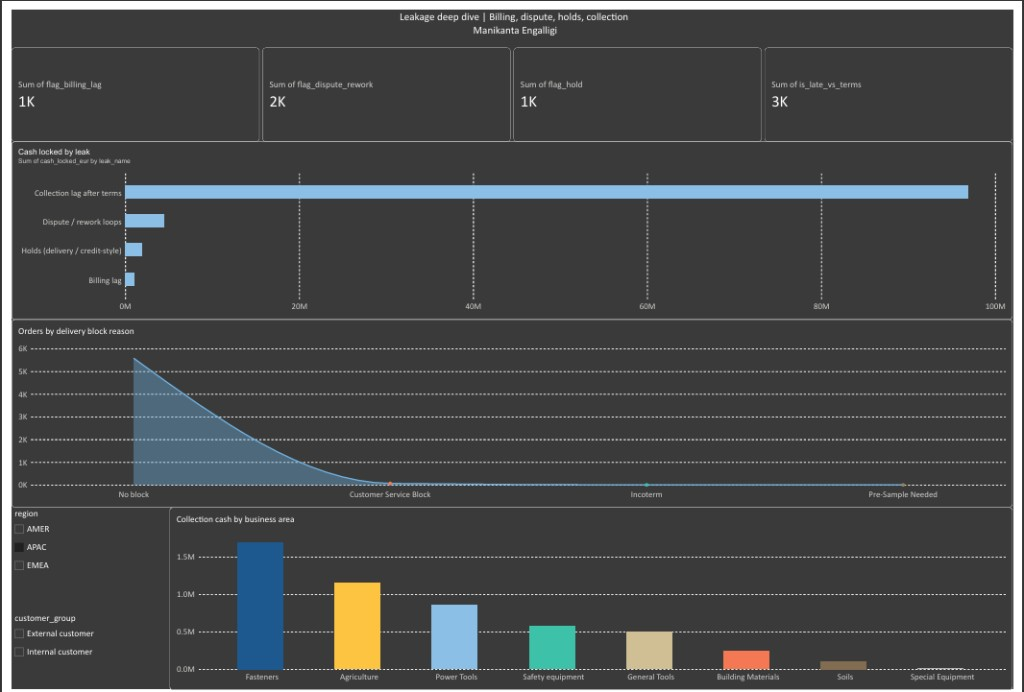

The page's visual inventory and layout, read from the dashboard file:
{"tool":"powerbi","page":{"name":"Leakage","canvas":[2500,1700],"ordinal":2},"visuals":[{"type":"textbox","box":[10,0,2490,92.5],"z":0},{"type":"slicer","fields":{"Values":["mart_order_kpi_full.region"]},"box":[0,1242.5,400,217.5],"z":1000},{"type":"slicer","fields":{"Values":["mart_order_kpi_full.customer_group"]},"box":[0,1505,395,195],"z":2000},{"type":"cardVisual","fields":{"Data":["Sum(mart_order_kpi_full.flag_billing_lag)","Sum(mart_order_kpi_full.flag_dispute_rework)","Sum(mart_order_kpi_full.flag_hold)","Sum(mart_order_kpi_full.is_late_vs_terms)"]},"box":[0,92.5,2500,235],"z":3000},{"type":"clusteredBarChart","title":"Cash locked by leak","fields":{"Category":["mart_leak_impact.leak_name"],"Y":["Sum(mart_leak_impact.cash_locked_eur)"]},"box":[0,327.5,2500,445],"z":4000},{"type":"stackedAreaChart","title":"Orders by delivery block reason","fields":{"Category":["dim_delivery_block.delivery_block"],"Y":["CountNonNull(mart_order_kpi_full.sales_order_id)"]},"box":[0,772.5,2500,470],"z":5000},{"type":"clusteredColumnChart","title":"Collection cash by business area","fields":{"Category":["mart_order_kpi_full.business_area"],"Y":["Sum(mart_order_kpi_full.cash_collection_eur)"]},"box":[395,1242.5,2105,457.5],"z":6000}]}

Visuals, with their boxes in screenshot pixels (x1, y1, x2, y2), scaled from the page's 2500x1700 canvas onto the 1024x692 screenshot:
textbox: 4,0,1023,38
slicer - mart_order_kpi_full.region: 0,506,164,594
slicer - mart_order_kpi_full.customer_group: 0,613,162,691
cardVisual - Sum(mart_order_kpi_full.flag_billing_lag) x Sum(mart_order_kpi_full.flag_dispute_rework): 0,38,1023,133
"Cash locked by leak" clusteredBarChart: 0,133,1023,314
"Orders by delivery block reason" stackedAreaChart: 0,314,1023,506
"Collection cash by business area" clusteredColumnChart: 162,506,1023,691
